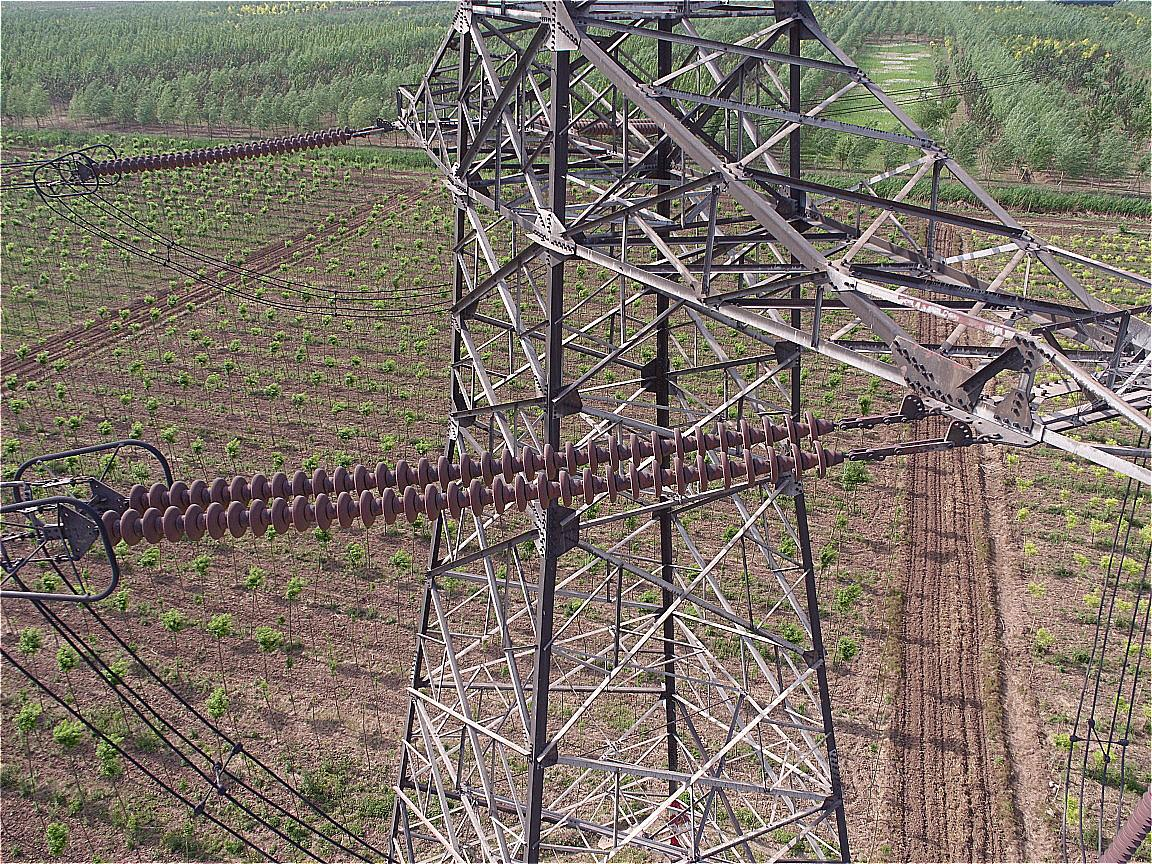insultor1: (89, 406, 847, 555), (75, 115, 365, 178)
